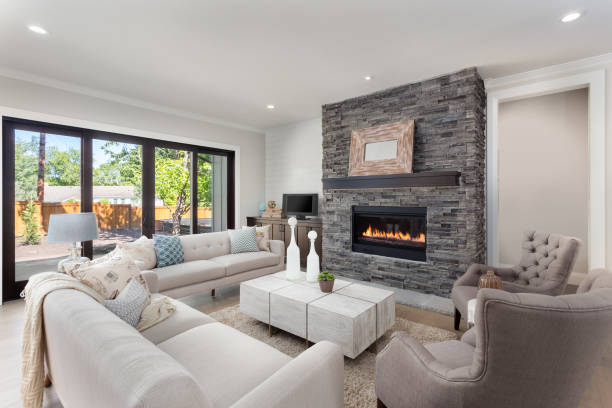chair: (374, 269, 612, 408), (449, 228, 583, 330)
floor lamp: (42, 207, 101, 278)
small plant: (318, 271, 336, 293)
sofa: (25, 272, 344, 408), (116, 225, 286, 300)
table: (237, 269, 398, 361)
wall art: (347, 117, 415, 177)
